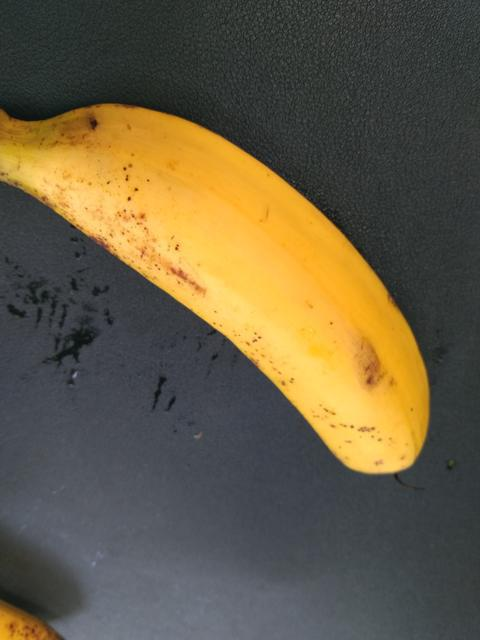ripe: (0, 72, 458, 494)
